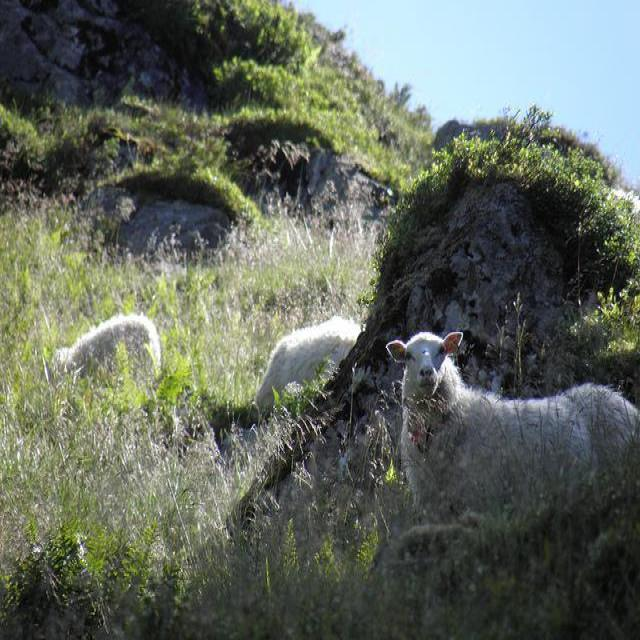Sheep: (389, 333, 637, 516), (251, 314, 362, 418), (53, 311, 162, 377)
